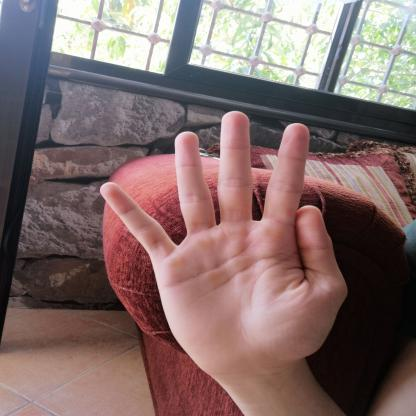SHEEN: (86, 100, 360, 382)
